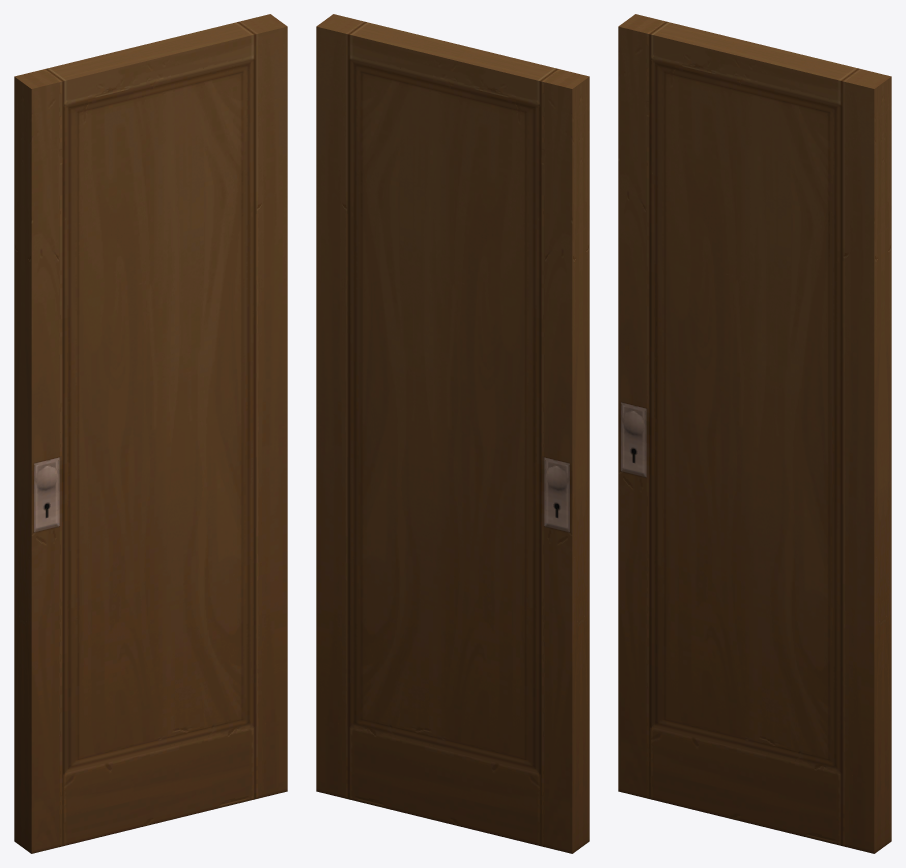
The model's file is moviblePuertaSencilla.fbx.
3 renders of one model, left to right at view 1: azimuth 30°, elevation 25°; view 2: azimuth 150°, elevation 25°; view 3: azimuth 330°, elevation 25°, orthographic.
Visible parts, largest first — view 1: puertaMovible; view 2: puertaMovible; view 3: puertaMovible.
Boxes of the visible parts, <box> form: puertaMovible: <box>14,14,287,853</box>; puertaMovible: <box>316,14,589,853</box>; puertaMovible: <box>618,14,891,853</box>.
Bounding box in the file's own units: 75 × 214 × 8.72.
Materials: 2 (2 with a texture image).
